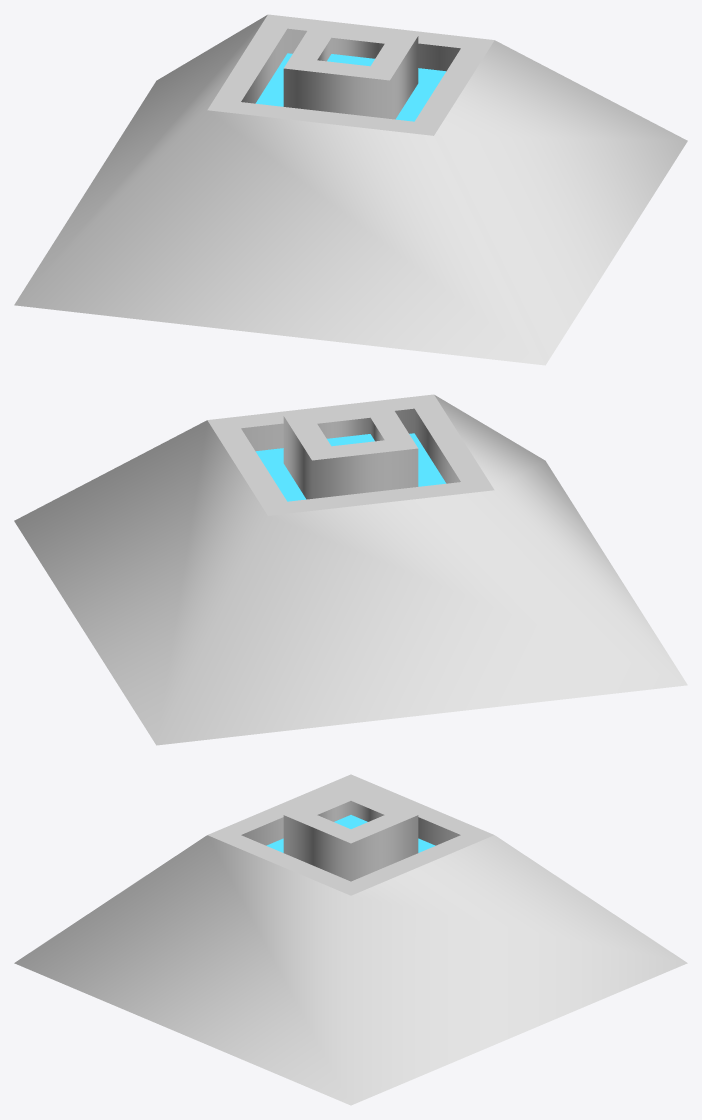
The model's file is scifiPickupShieldBase.glb.
3 renders of one model, top to bottom at view 1: azimuth 30°, elevation 25°; view 2: azimuth 150°, elevation 25°; view 3: azimuth 270°, elevation 25°, orthographic. The views are drawn at different scales.
Parts seen in each view (by area): view 1: scifiShieldBase; view 2: scifiShieldBase; view 3: scifiShieldBase.
Boxes of the visible parts, x1,y1,x2,y2 form: scifiShieldBase: [14, 14, 687, 365]; scifiShieldBase: [14, 394, 687, 745]; scifiShieldBase: [14, 774, 687, 1105].
Bounding box in the file's own units: 0.5791 × 0.1405 × 0.5791.
Materials: 2 (1 with a texture image).
